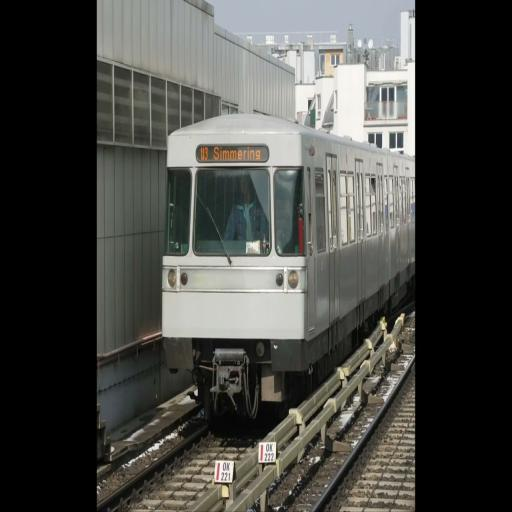Silberpfeil: (159, 105, 416, 363)
